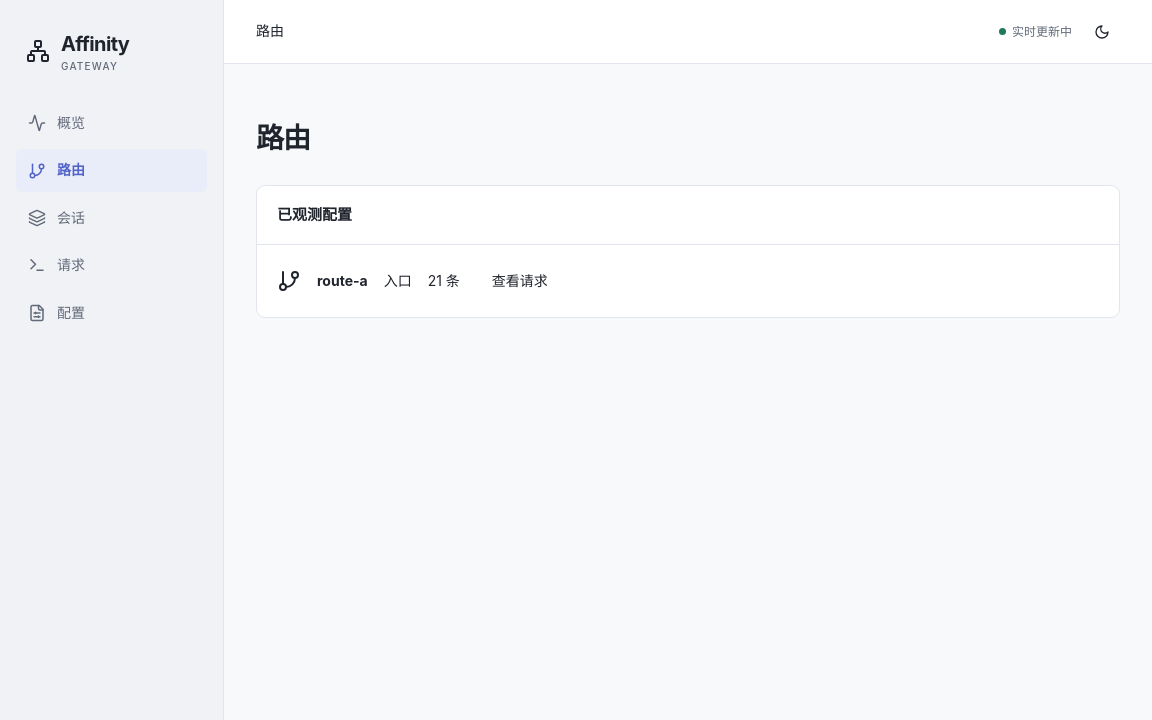
opens grouped requests in a paginated dialog on /routes
Click the button "查看请求". click: (520, 281)
box: x1=476 y1=263 x2=564 y2=299
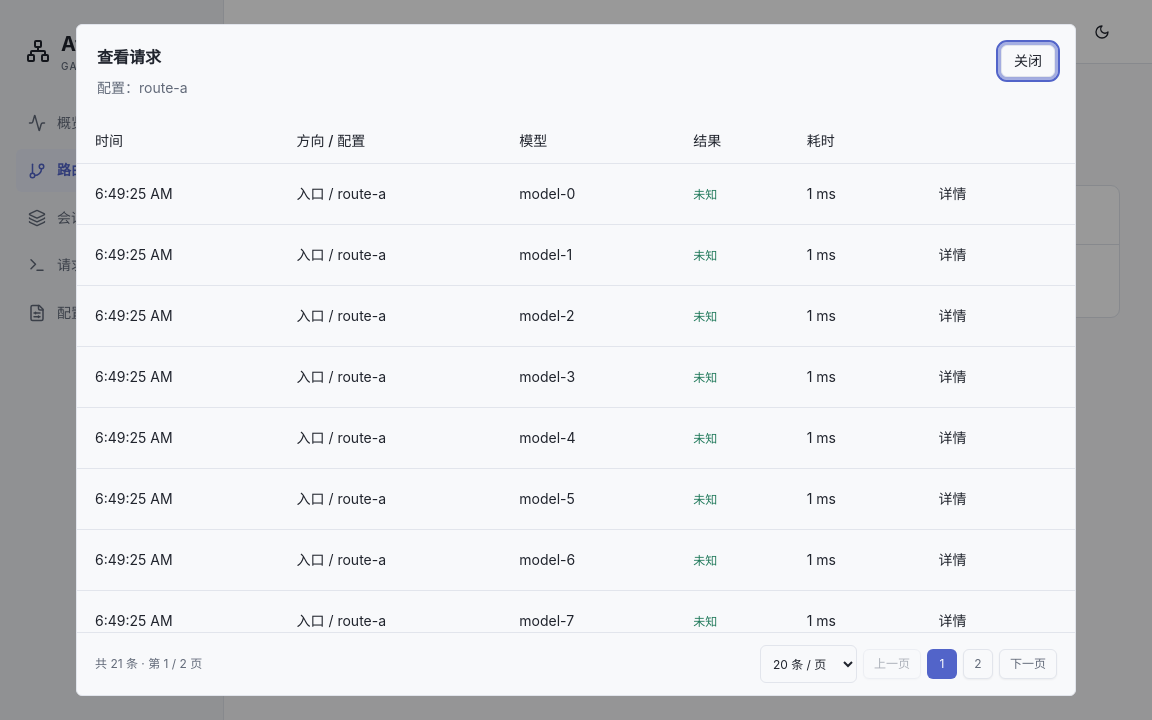
expect the dialog "查看请求" is shown: met
expect the text "model-0" is shown: met, box x1=501 y1=164 x2=675 y2=224
Click the button "下一页". click: (1028, 664)
box: x1=999 y1=649 x2=1057 y2=679
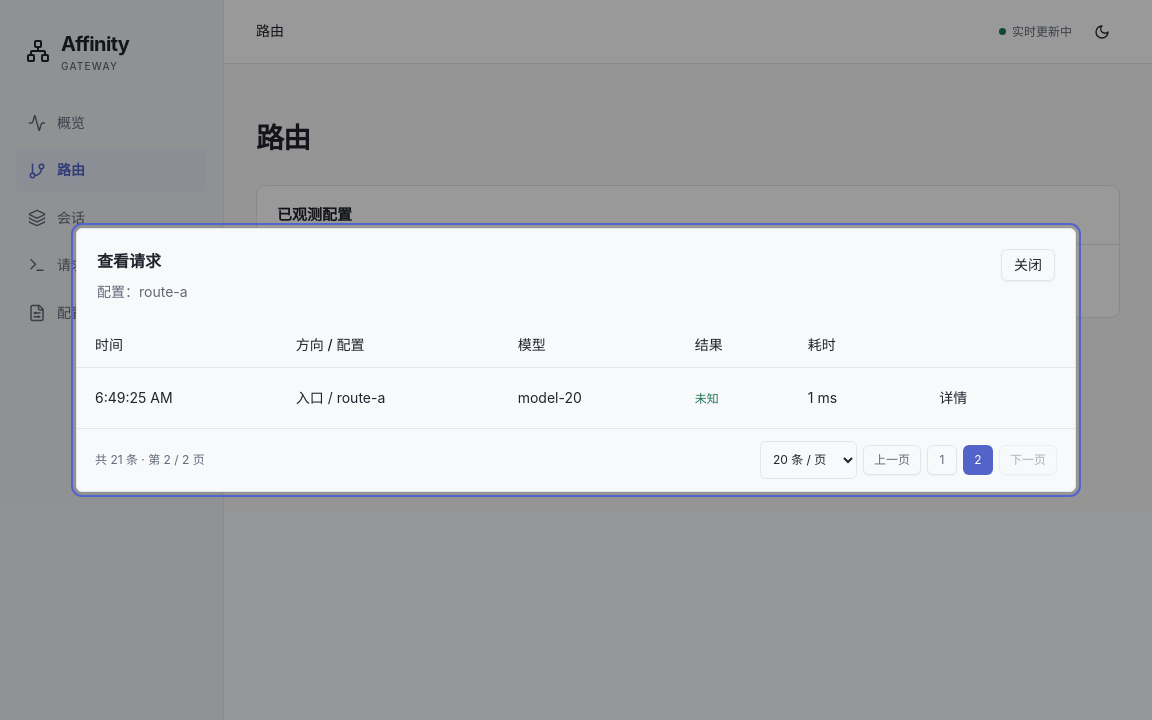
expect the text "model-20" is shown: met, box x1=500 y1=368 x2=677 y2=428
Click the button "详情". click: (953, 398)
box: x1=923 y1=380 x2=983 y2=416
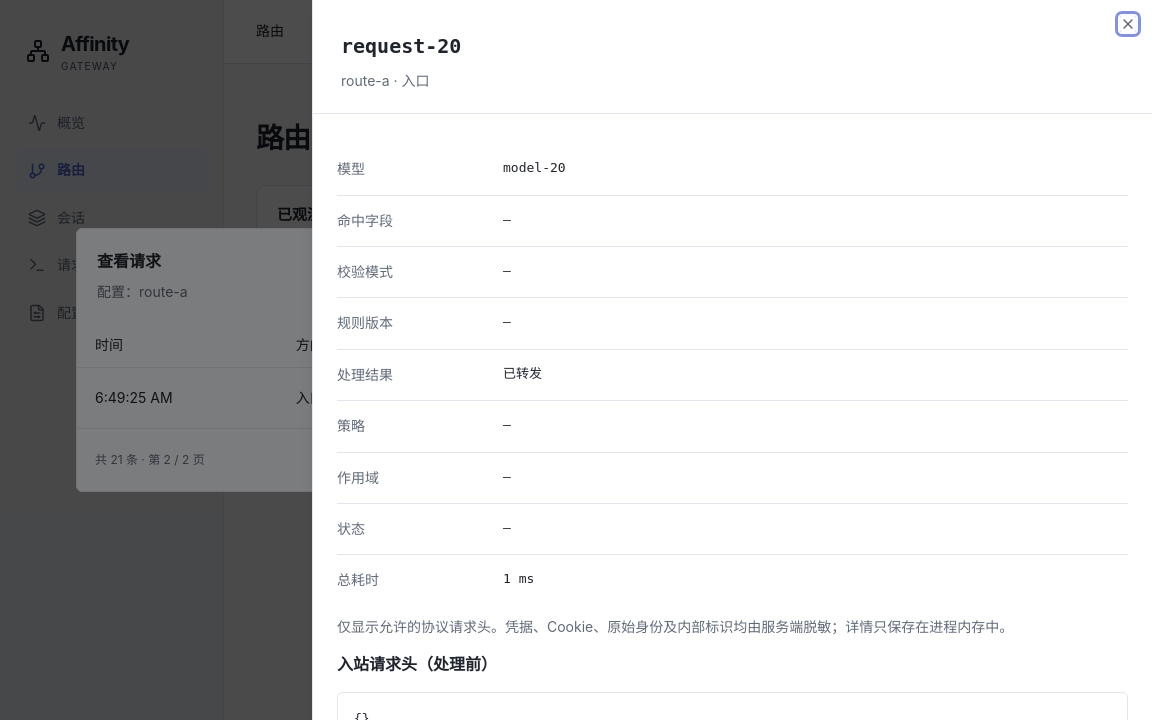
expect the dialog "request-20" is shown: met
Press Escape
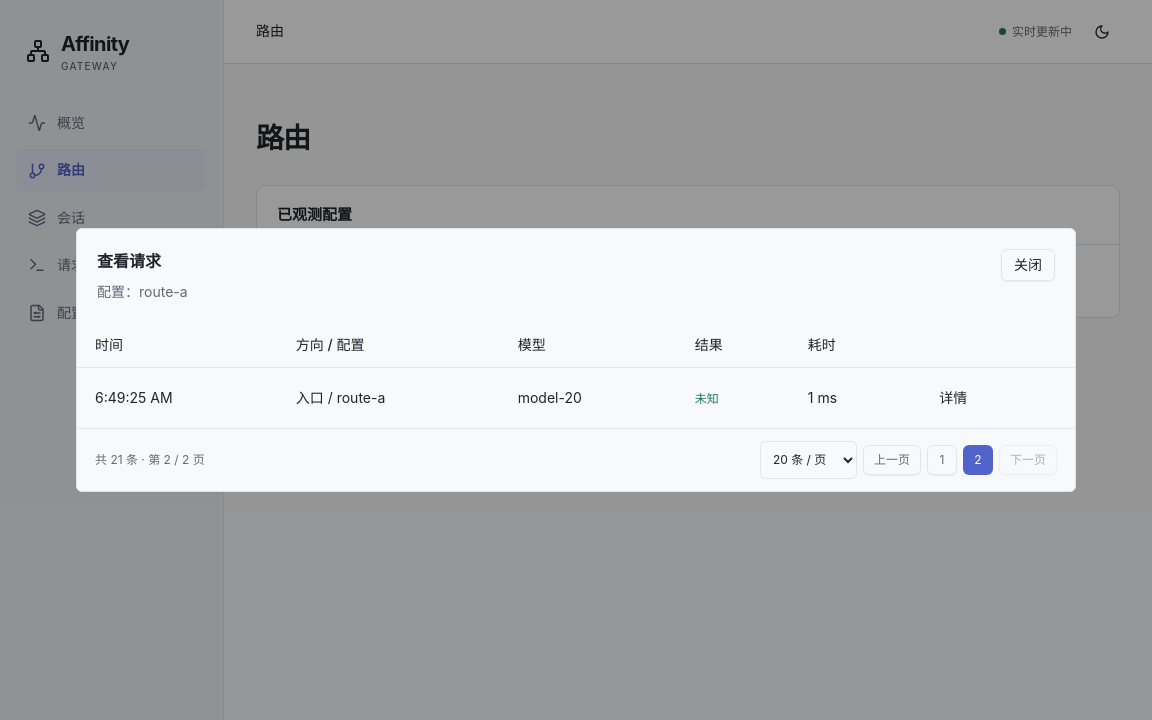
expect the dialog "查看请求" is shown: met, box x1=76 y1=228 x2=1076 y2=492
Click the button "关闭". click: (1028, 265)
box: x1=1001 y1=249 x2=1055 y2=281
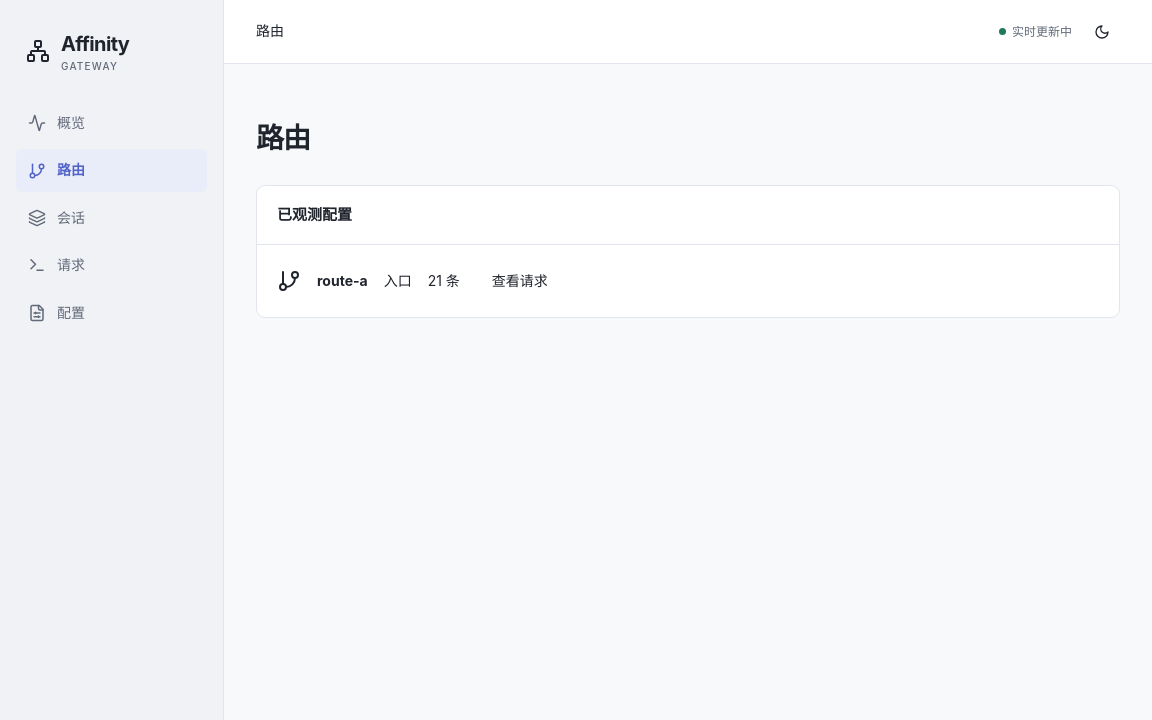
expect the table is gone: met
